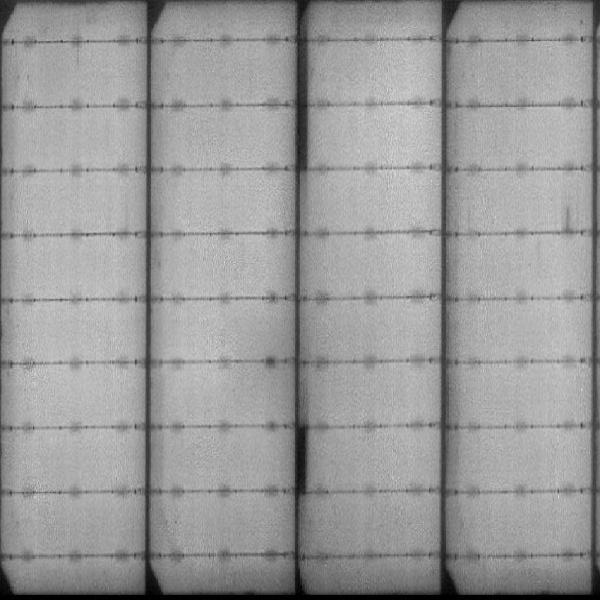black_border: (296, 18, 320, 176), (291, 421, 313, 495)
